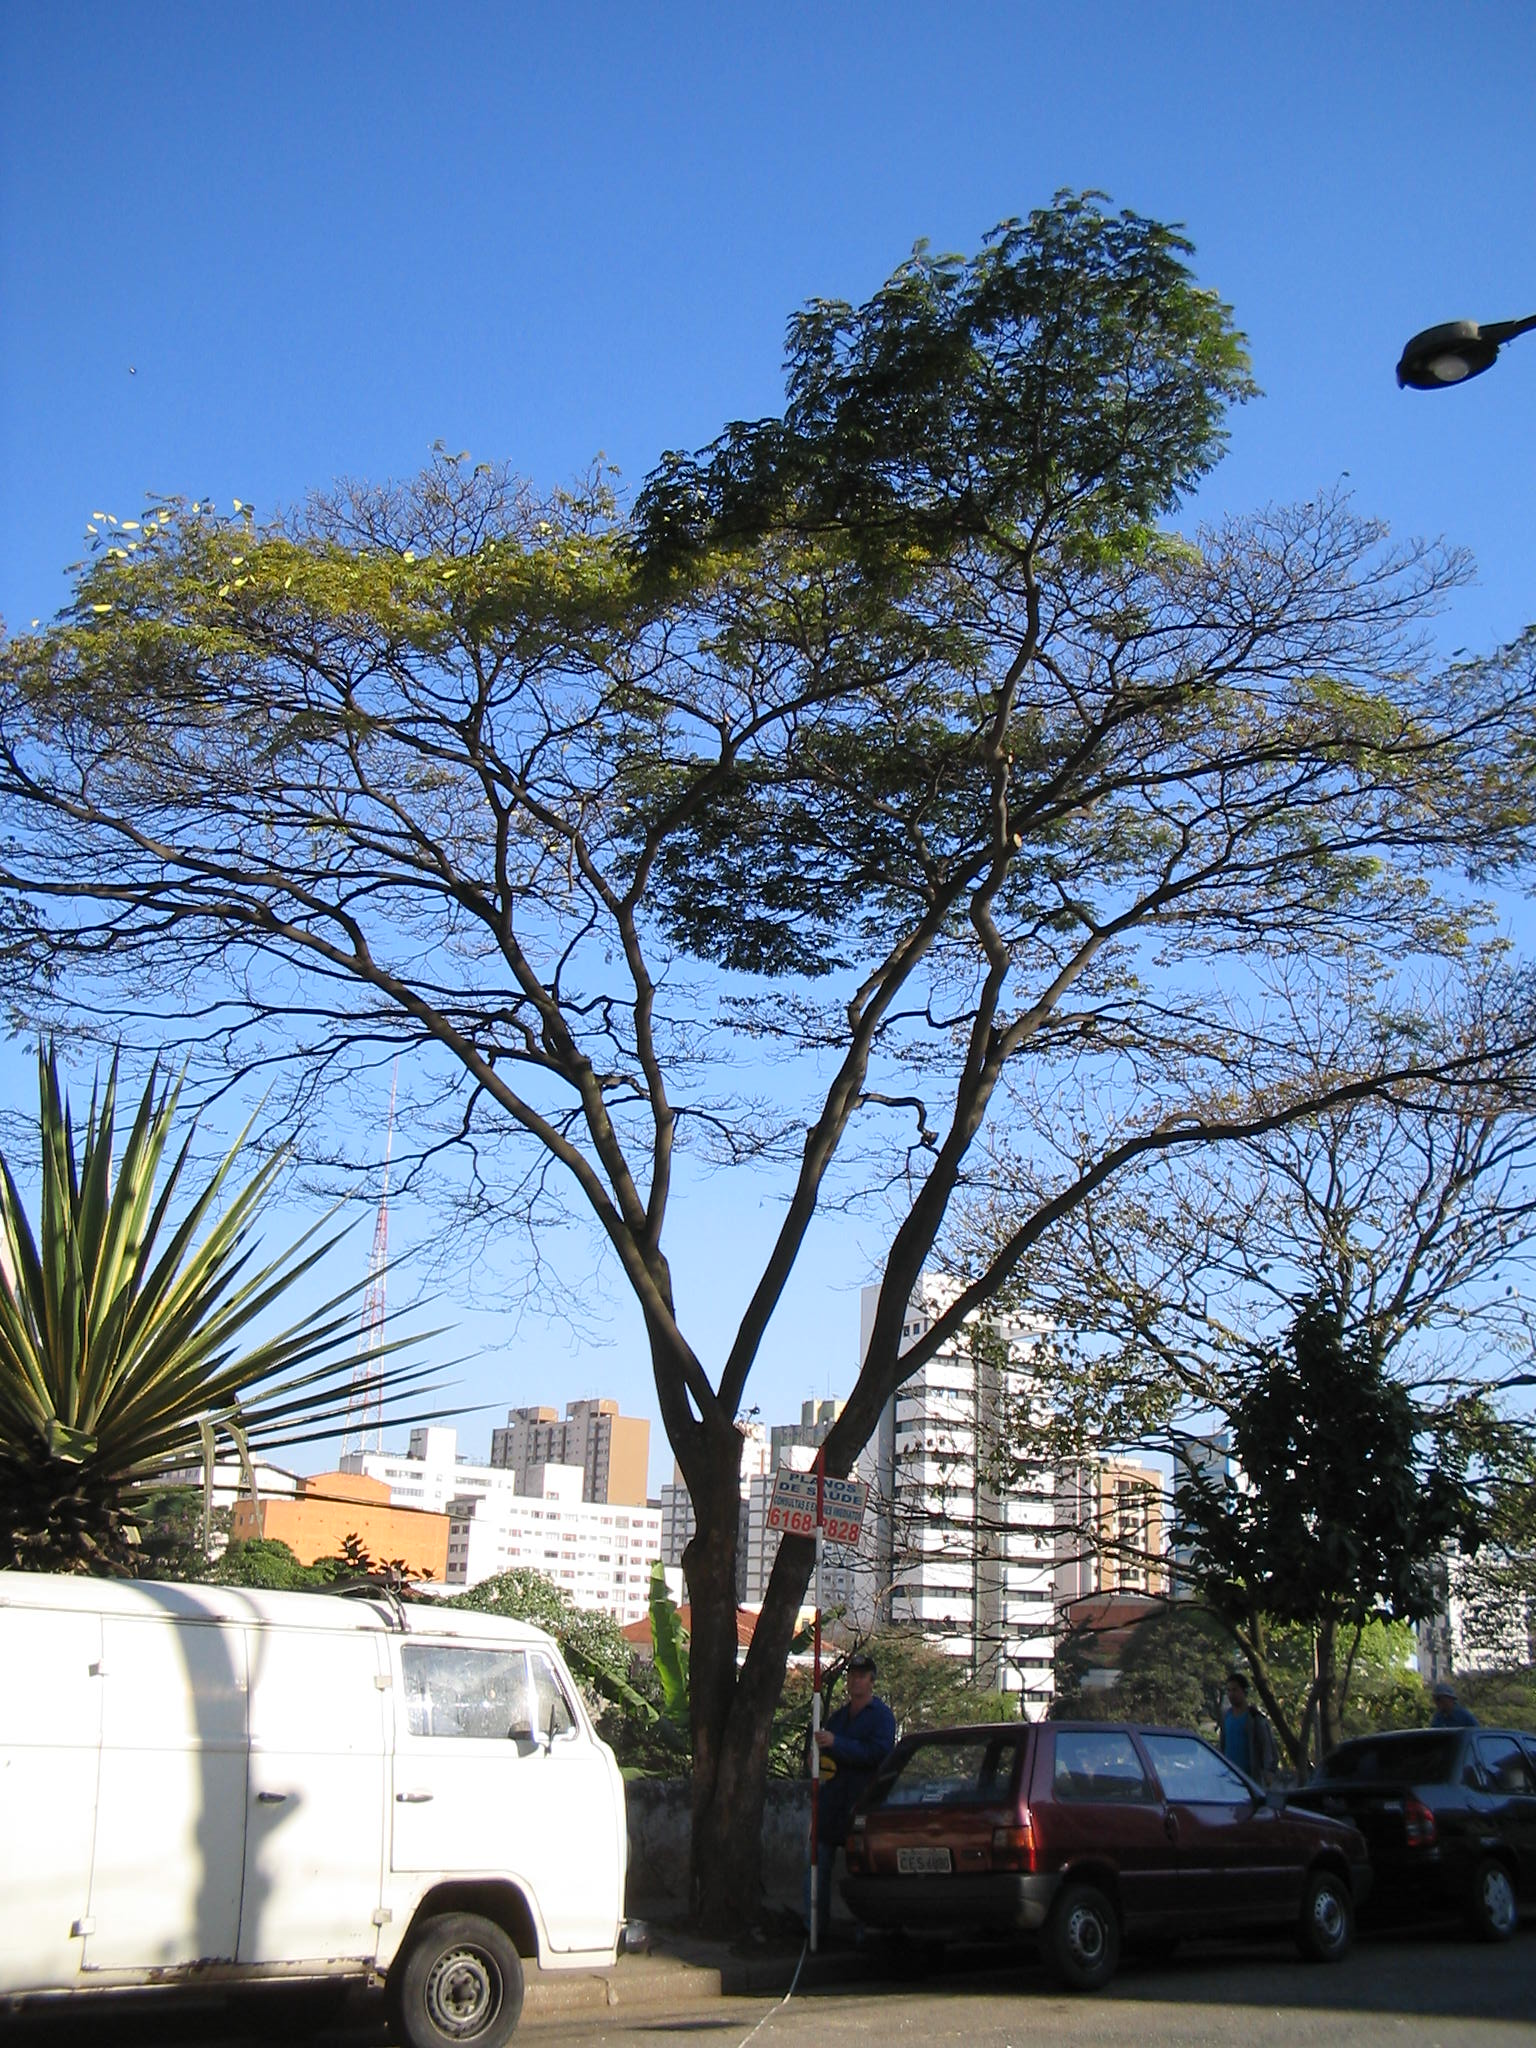crown: (15, 190, 1536, 1085), (1186, 1316, 1499, 1634)
stem: (644, 1708, 803, 1932)
stick: (779, 1440, 866, 1946)
tree: (6, 187, 1536, 1937), (1178, 1308, 1504, 1771)
